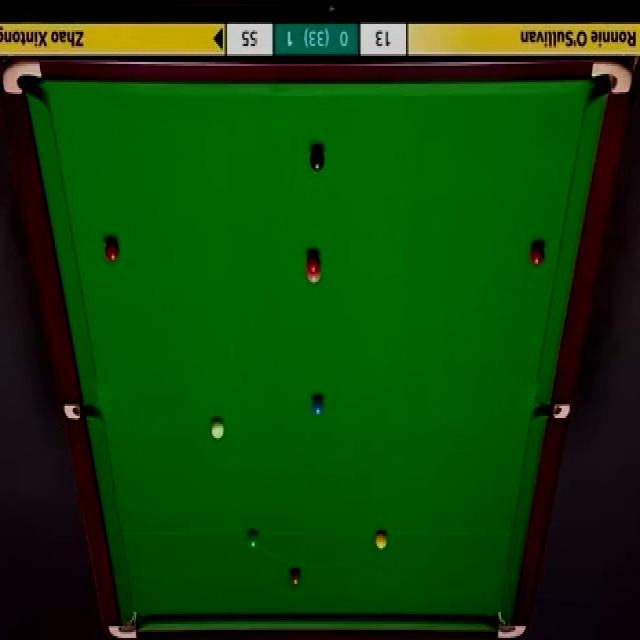black-ball: (308, 150, 326, 172)
blue-ball: (308, 395, 324, 415)
brown-ball: (290, 567, 301, 587)
green-ball: (247, 530, 260, 551)
pink-ball: (307, 270, 322, 284)
red-ball: (531, 243, 546, 267), (105, 239, 120, 263), (306, 253, 319, 273)
white-ball: (210, 418, 224, 441)
yellow-ball: (375, 530, 389, 551)
